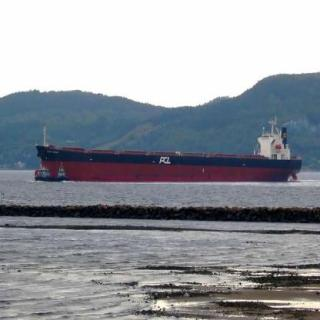Bulk Carrier: (20, 116, 313, 184)
